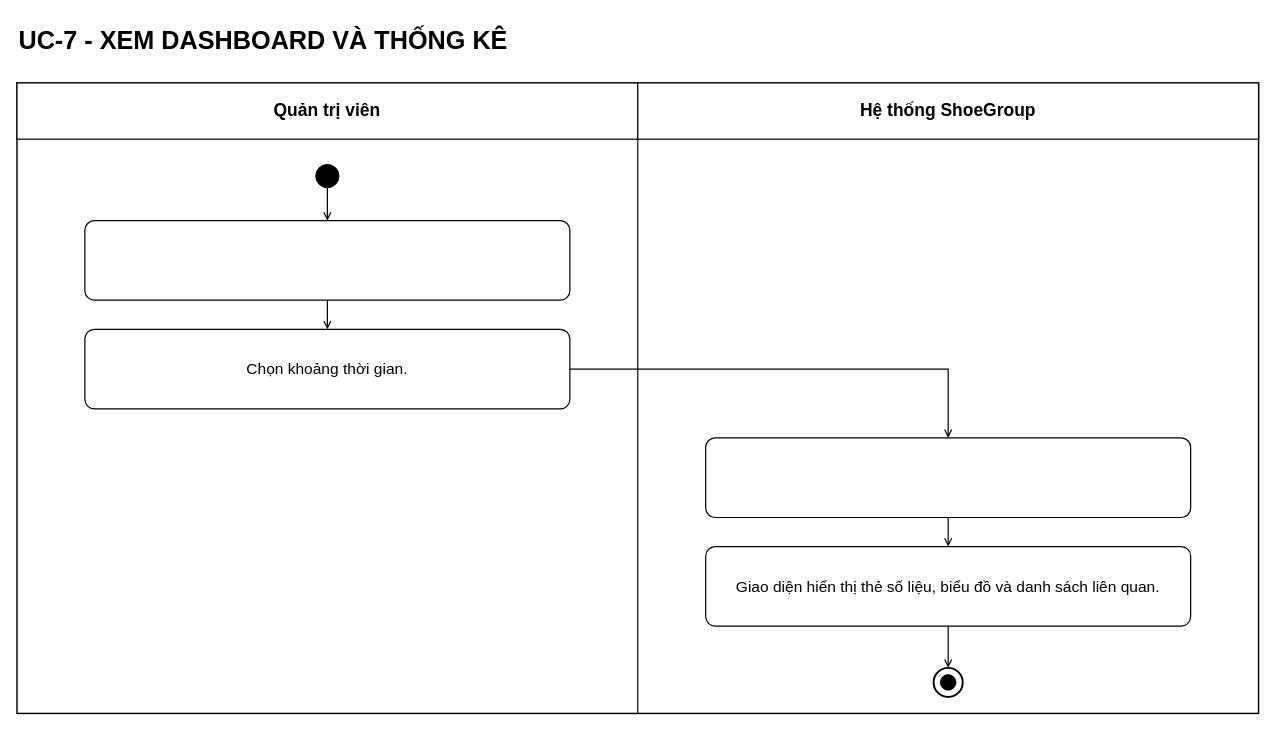
Some shapes in this 1277 by 731 pixel diagram are drawn without their labels. The centre of each missing label's shape, as x and y in pixels:
"Backend tổng hợp đơn đủ điều kiện ghi nhận doanh thu." belongs at point 948,477.
"Mở Dashboard." belongs at point 327,260.
